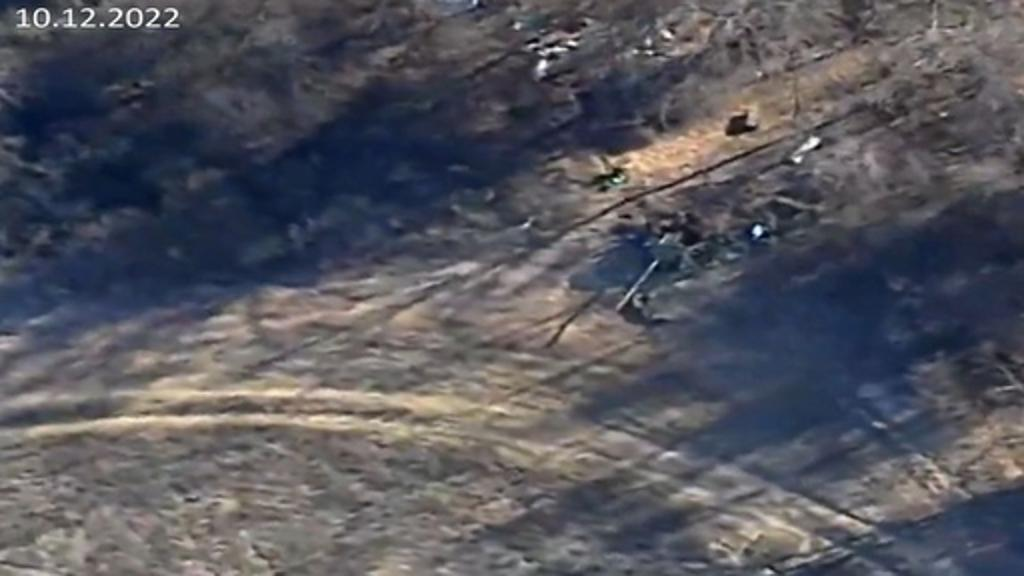ART: (612, 218, 708, 316)
